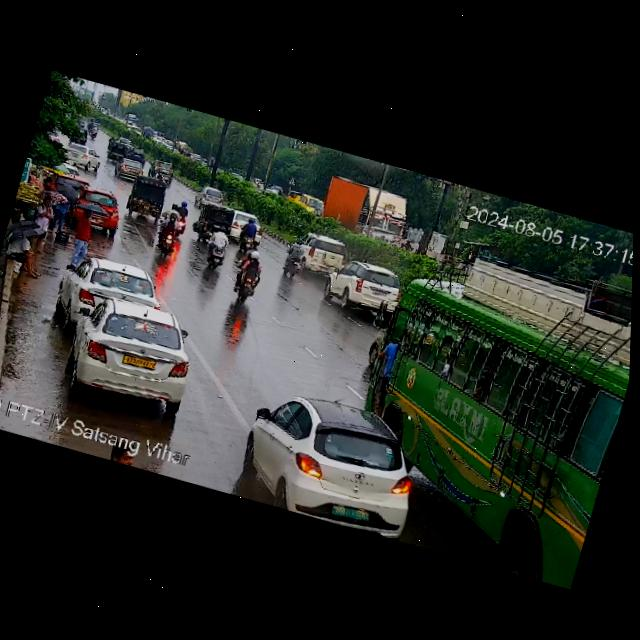bus: (348, 256, 633, 517), (284, 188, 330, 221)
car: (233, 392, 439, 544), (49, 283, 208, 415), (59, 250, 164, 332), (324, 255, 406, 320), (288, 230, 350, 279), (71, 185, 127, 234), (125, 175, 176, 221), (194, 200, 245, 237), (61, 141, 106, 172), (111, 155, 154, 185), (106, 140, 150, 167), (197, 184, 231, 207)
motorcycle: (233, 248, 274, 308), (149, 203, 188, 256), (199, 225, 235, 272), (229, 217, 268, 252), (278, 244, 312, 280), (148, 158, 178, 183), (173, 202, 193, 235)
person: (0, 225, 52, 280), (44, 186, 76, 239), (27, 191, 59, 241), (68, 208, 99, 259)
truck: (315, 172, 421, 249)
